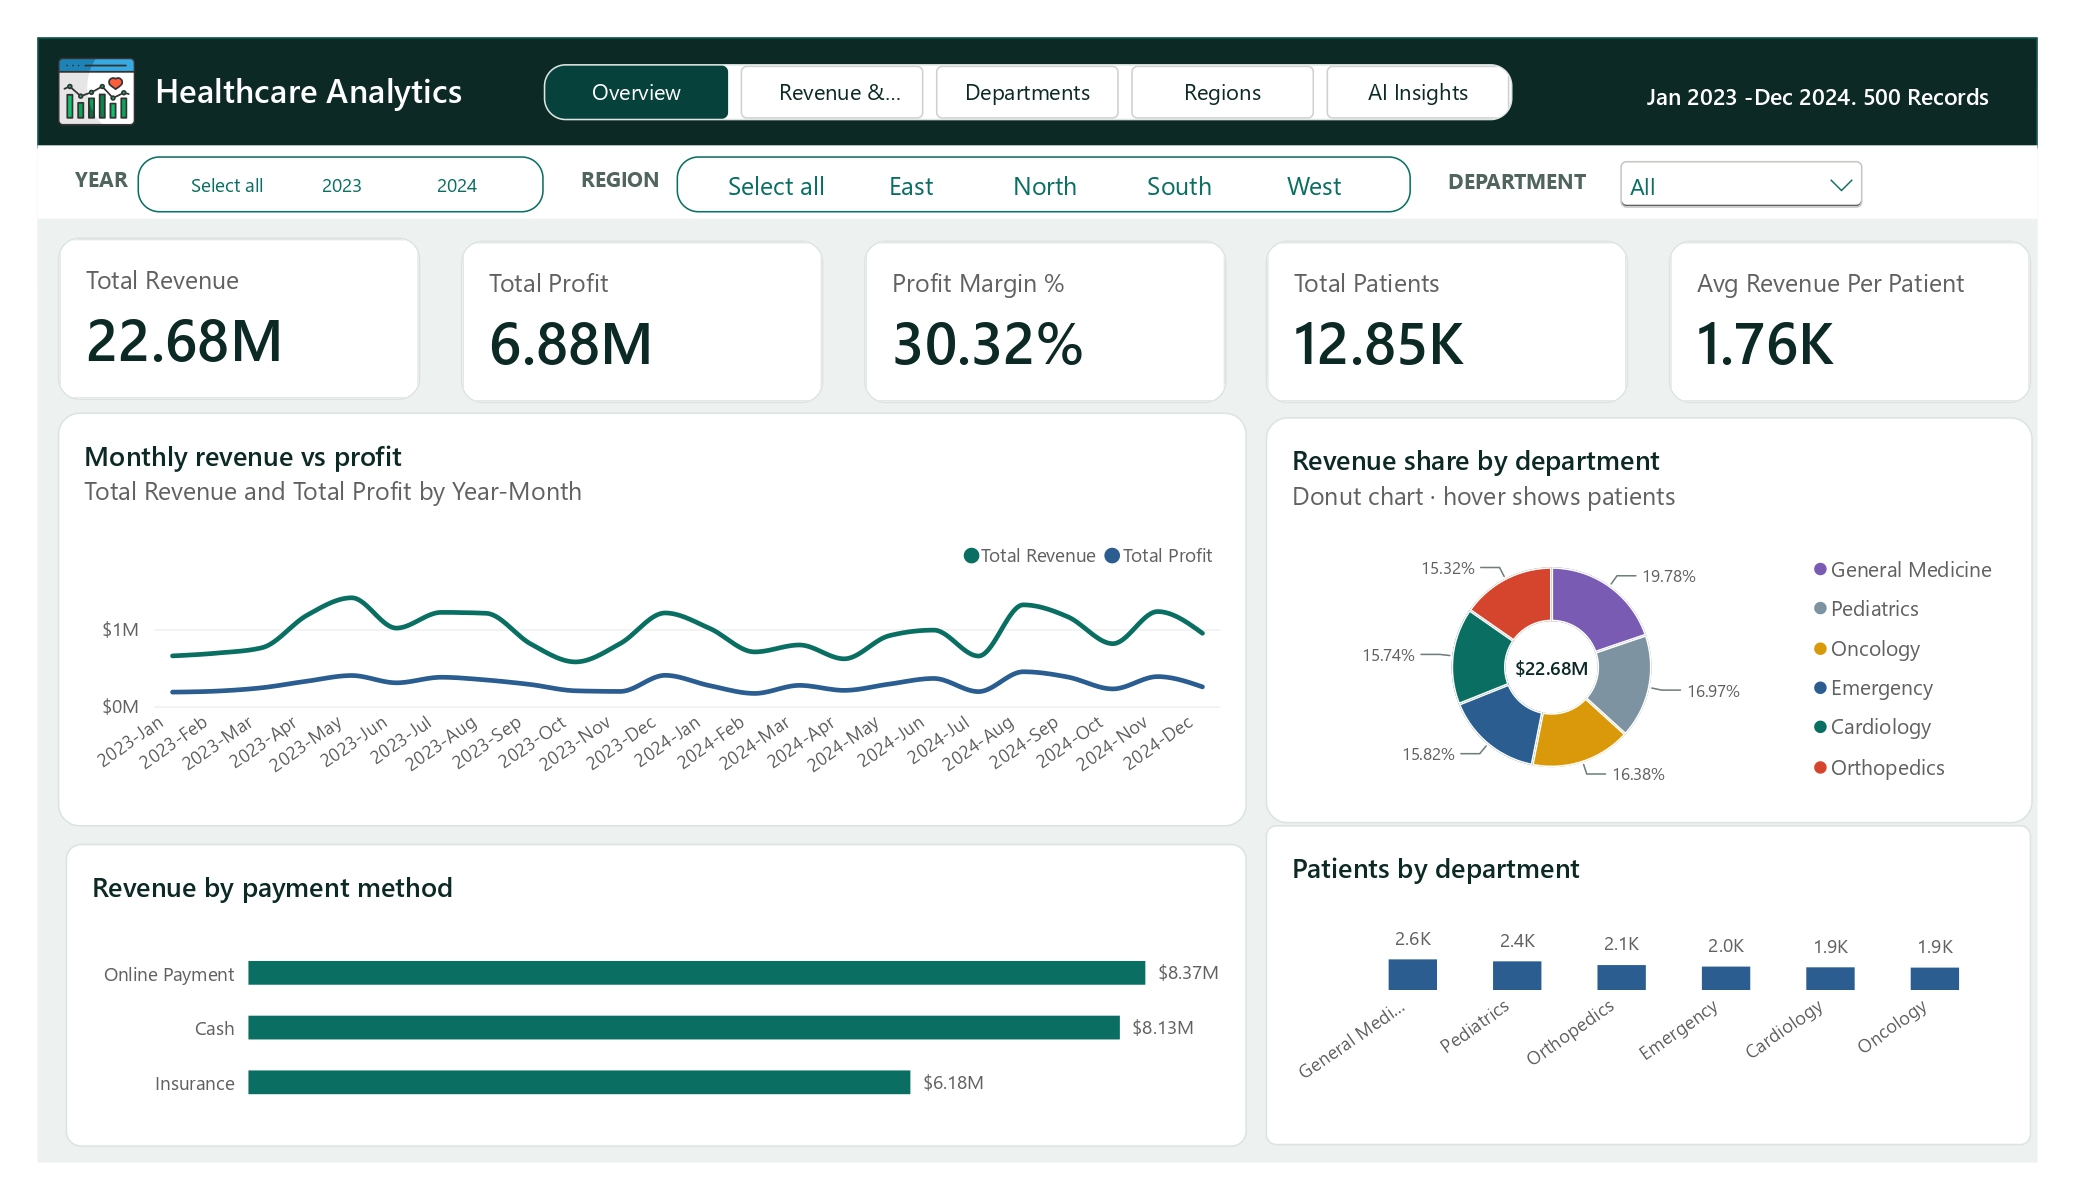

What the dashboard file says about the page in this screenshot:
{"tool":"powerbi","page":{"name":"Overview","canvas":[1280,720],"ordinal":0},"visuals":[{"type":"shape","box":[0,0,1279.7,70.7],"z":0},{"type":"shape","box":[0,69,1280,47],"z":1000},{"type":"slicer","fields":{"Values":["DateTable.Year"]},"box":[64,75.8,260,36],"z":2000},{"type":"slicer","fields":{"Values":["Sheet1.Region"]},"box":[408.8,75.8,470.2,36.6],"z":3000},{"type":"slicer","fields":{"Values":["Sheet1.Department"]},"box":[1008.3,74.4,164.6,36.6],"z":4000},{"type":"textbox","box":[24,82,50.5,34.6],"z":5000},{"type":"textbox","box":[348,82,56,24],"z":6000},{"type":"textbox","box":[902.5,83,94,23.5],"z":7000},{"type":"textbox","box":[75,18.8,228,31.7],"z":8000},{"type":"cardVisual","fields":{"Data":["_Measures.Total Revenue"]},"box":[12.8,128.1,232,104],"z":9000},{"type":"cardVisual","fields":{"Data":["_Measures.Total Profit"]},"box":[270.7,129.7,232,104],"z":10000},{"type":"cardVisual","fields":{"Data":["_Measures.Profit Margin %"]},"box":[528.5,129.7,232,104],"z":11000},{"type":"cardVisual","fields":{"Data":["_Measures.Total Patients"]},"box":[786.4,129.7,232,104],"z":12000},{"type":"cardVisual","fields":{"Data":["_Measures.Avg Revenue Per Patient"]},"box":[1044.3,129.7,232,104],"z":13000},{"type":"image","box":[11.2,0,52.9,68.9],"z":14000},{"type":"lineChart","title":"Monthly revenue vs profit","fields":{"Category":["DateTable.Year-Month"],"Y":["_Measures.Total Revenue","_Measures.Total Profit"]},"box":[12.8,240.2,760.8,264.3],"z":15000},{"type":"donutChart","title":"Revenue share by department","fields":{"Category":["Sheet1.Department"],"Y":["_Measures.Total Revenue"]},"box":[786.3,242.9,491.1,259.9],"z":16000},{"type":"clusteredBarChart","title":"Revenue by payment method","fields":{"Category":["Sheet1.Payment_Method"],"Y":["_Measures.Total Revenue"]},"box":[17.6,515.7,756,193.8],"z":17000},{"type":"textbox","box":[1030,27,249.5,30],"z":18000},{"type":"clusteredColumnChart","title":"Patients by department","fields":{"Category":["Sheet1.Department"],"Y":["_Measures.Total Patients"]},"box":[786.3,504.2,489.8,205.1],"z":19000},{"type":"pageNavigator","box":[323.9,17,620,36],"z":20000}]}

Visuals, with their boxes on the page's 1280x720 design canvas (x1, y1, x2, y2). These are canvas units, not pixel positions in the 2075x1200 screenshot, which may show the page scaled, cropped or inside an application window:
shape: [0, 0, 1280, 71]
shape: [0, 69, 1280, 116]
slicer - DateTable.Year: [64, 76, 324, 112]
slicer - Sheet1.Region: [409, 76, 879, 112]
slicer - Sheet1.Department: [1008, 74, 1173, 111]
textbox: [24, 82, 74, 117]
textbox: [348, 82, 404, 106]
textbox: [902, 83, 996, 106]
textbox: [75, 19, 303, 50]
cardVisual - _Measures.Total Revenue: [13, 128, 245, 232]
cardVisual - _Measures.Total Profit: [271, 130, 503, 234]
cardVisual - _Measures.Profit Margin %: [528, 130, 760, 234]
cardVisual - _Measures.Total Patients: [786, 130, 1018, 234]
cardVisual - _Measures.Avg Revenue Per Patient: [1044, 130, 1276, 234]
image: [11, 0, 64, 69]
"Monthly revenue vs profit" lineChart: [13, 240, 774, 504]
"Revenue share by department" donutChart: [786, 243, 1277, 503]
"Revenue by payment method" clusteredBarChart: [18, 516, 774, 710]
textbox: [1030, 27, 1280, 57]
"Patients by department" clusteredColumnChart: [786, 504, 1276, 709]
pageNavigator: [324, 17, 944, 53]
